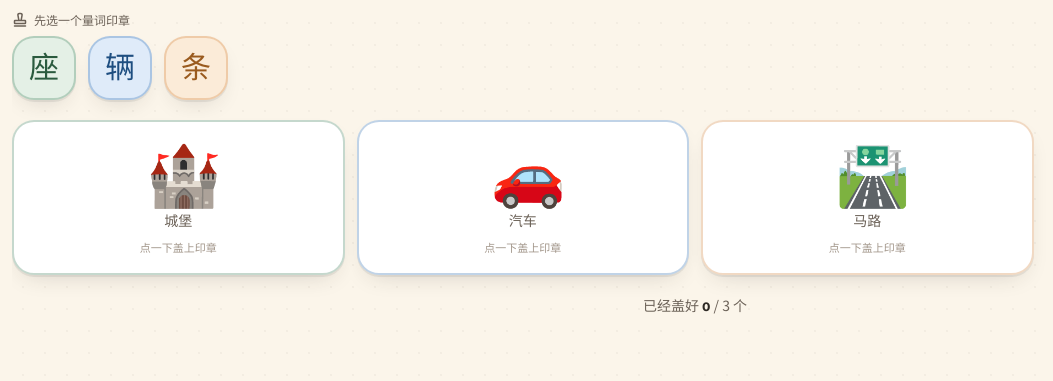
Test: 量词印章 › 盖对了：物品锁定并显示短语，手里的印章自动放下
Click the button "座" at x=44, y=68, box [12, 36, 76, 100]
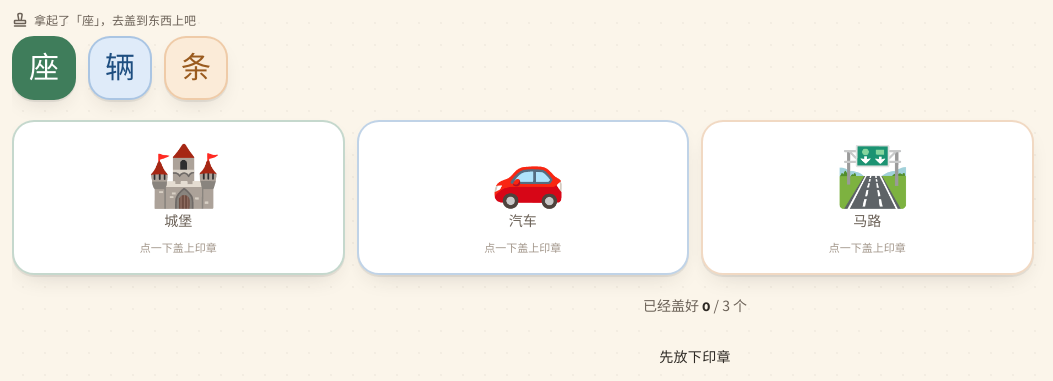
Click the button "🏰 城堡 点一下盖上印章" at x=178, y=197, box [12, 120, 344, 275]
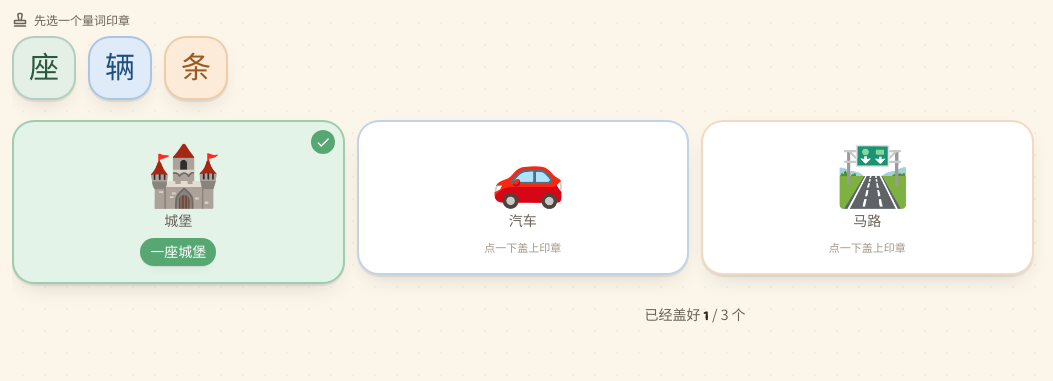
Result: the text "一座城堡" is shown at [140, 238, 216, 266]
Result: the button "🏰 城堡 一座城堡" is disabled at [12, 120, 344, 284]
